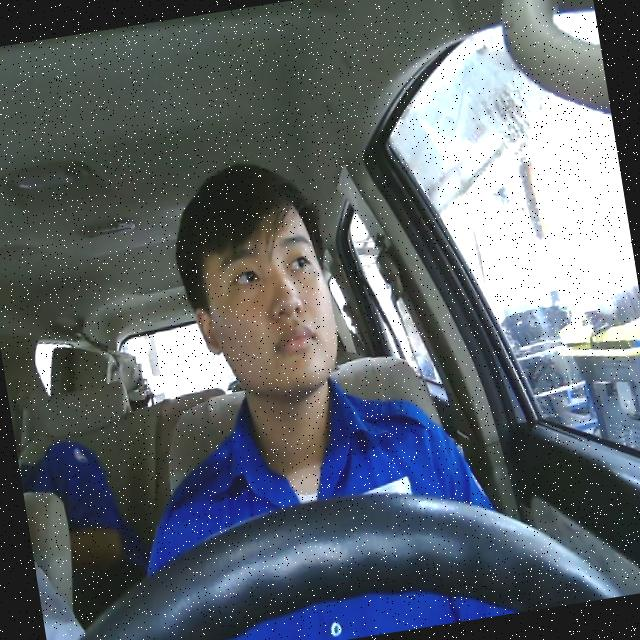seeing_right: (179, 198, 347, 410)
